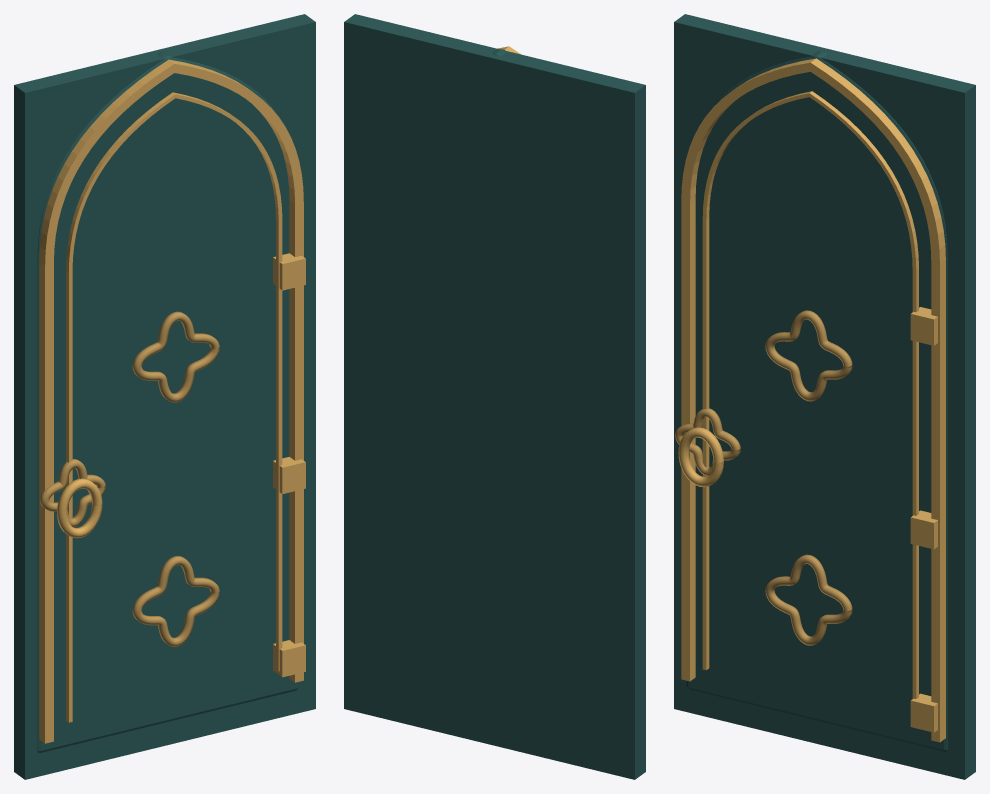
Rendered from door-east.glb.
3 views of the same model, side by side, from view 1: azimuth 30°, elevation 25°; view 2: azimuth 150°, elevation 25°; view 3: azimuth 330°, elevation 25° (orthographic).
Parts seen in each view (by area): view 1: NC.Export.DoorEast.RoyalDoor, NC.Export.DoorEast.PolishedBrass, NC.Export.DoorEast.RoyalGold; view 2: NC.Export.DoorEast.RoyalDoor; view 3: NC.Export.DoorEast.RoyalDoor, NC.Export.DoorEast.PolishedBrass, NC.Export.DoorEast.RoyalGold.
Part boxes in pixels (<box>): NC.Export.DoorEast.RoyalDoor: <box>14,14,315,779</box>; NC.Export.DoorEast.PolishedBrass: <box>39,59,305,743</box>; NC.Export.DoorEast.RoyalGold: <box>40,311,219,646</box>; NC.Export.DoorEast.RoyalDoor: <box>344,14,645,779</box>; NC.Export.DoorEast.RoyalDoor: <box>674,14,975,779</box>; NC.Export.DoorEast.PolishedBrass: <box>678,58,945,742</box>; NC.Export.DoorEast.RoyalGold: <box>675,310,852,645</box>.
Bounding box in the file's own units: 2.99 × 6.76 × 0.487.
